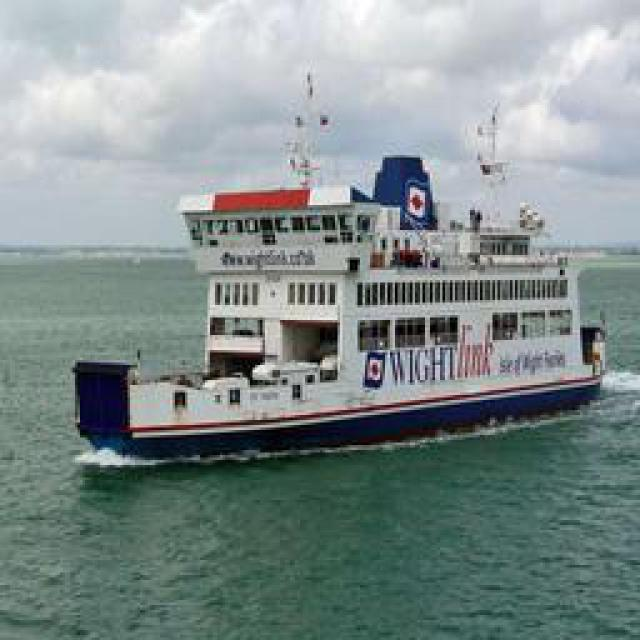Ship: (79, 94, 612, 469)
